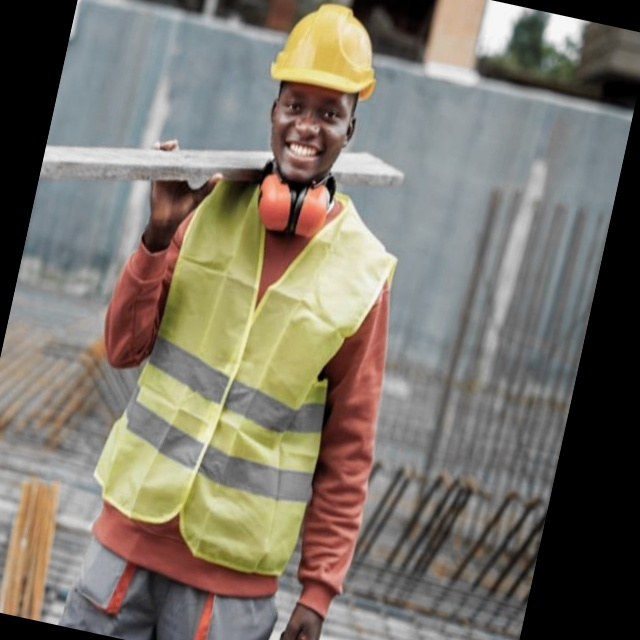Con_Casco: (246, 0, 387, 191)
Con_Chaleco: (88, 154, 396, 562)
